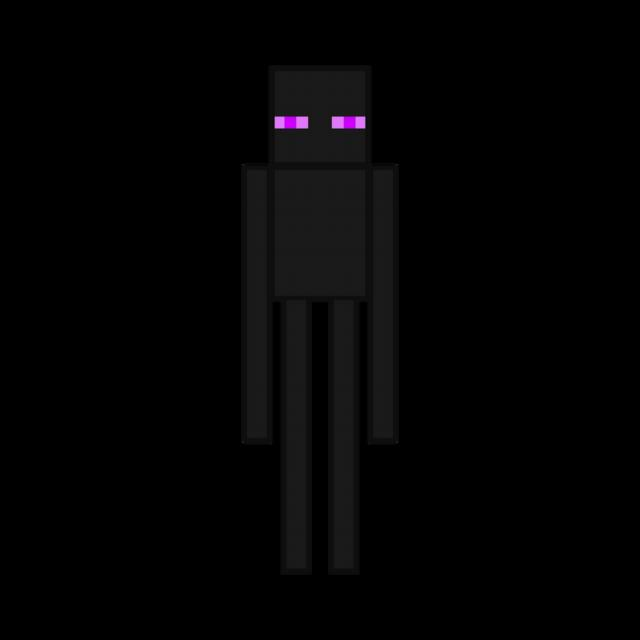Enderman: (235, 55, 404, 581)
